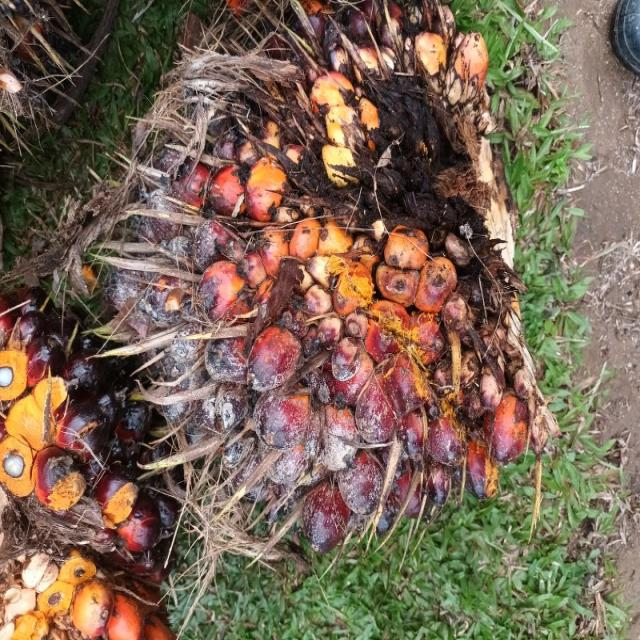fraksi 1: (111, 32, 532, 640)
